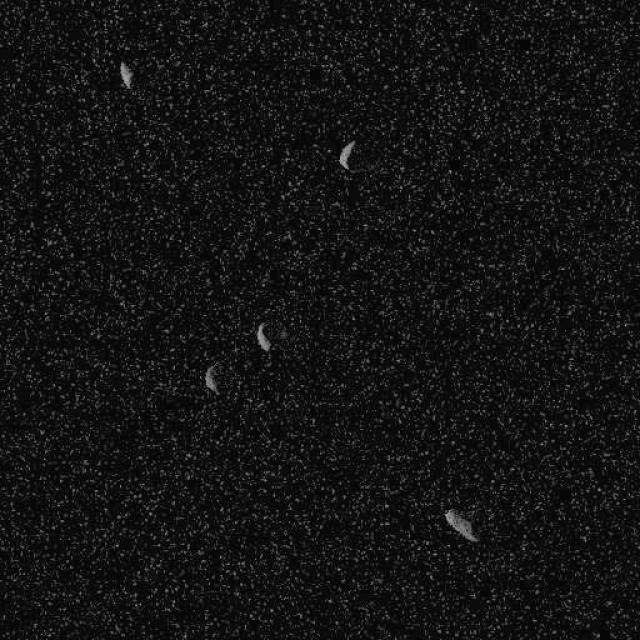D2: (442, 508, 478, 542), (338, 139, 357, 171), (202, 361, 220, 394), (255, 320, 271, 351), (118, 60, 134, 89)
